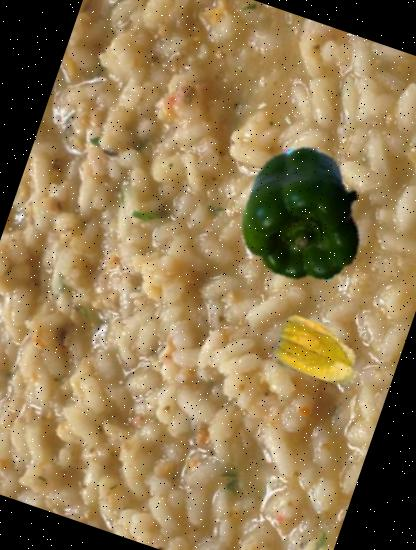Pepper: (214, 130, 388, 304)
Physalis: (262, 294, 376, 407)
